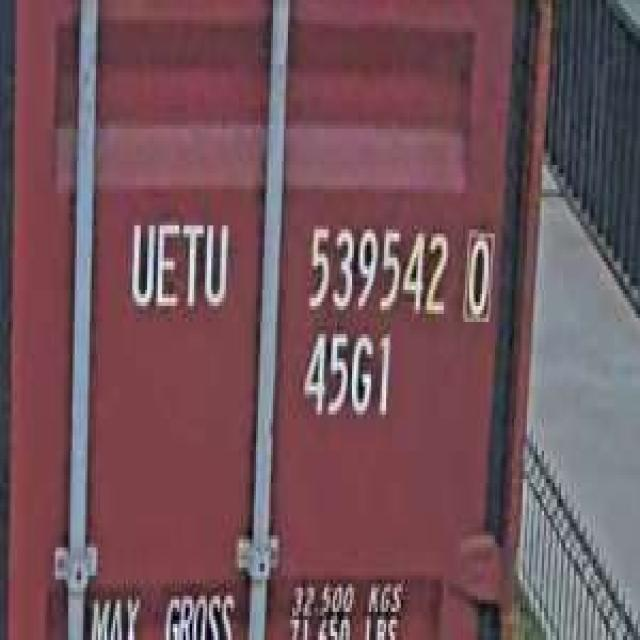dv: (459, 217, 497, 326)
owner: (124, 209, 232, 326)
serial: (301, 213, 450, 326)
size: (296, 322, 394, 431)
